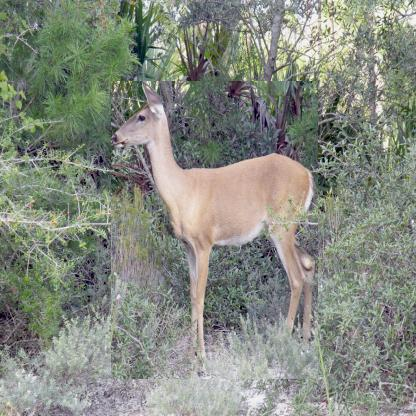Deer: (111, 81, 318, 379)
